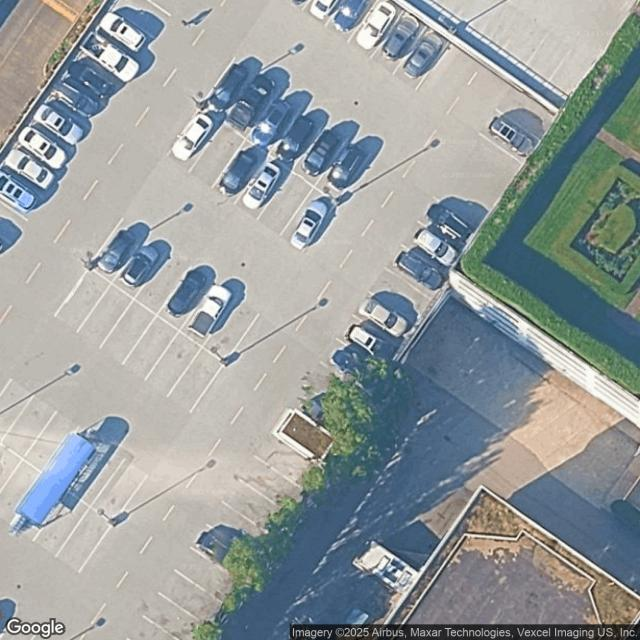car: (222, 68, 283, 134), (1, 143, 61, 196), (271, 108, 321, 168), (375, 13, 427, 70), (349, 0, 401, 56), (399, 28, 448, 87), (202, 59, 252, 115), (483, 111, 537, 161), (84, 35, 140, 82), (286, 197, 332, 254), (302, 122, 347, 180), (95, 8, 150, 55), (66, 57, 119, 105), (239, 158, 284, 214), (248, 96, 295, 148), (359, 295, 411, 342), (342, 319, 393, 364), (215, 147, 259, 199), (16, 126, 69, 169), (328, 144, 372, 194), (94, 228, 136, 277), (191, 285, 231, 336), (53, 79, 106, 117), (172, 113, 213, 161), (34, 105, 87, 142), (396, 251, 446, 290), (327, 0, 378, 38), (326, 343, 372, 385), (168, 270, 209, 316), (122, 245, 160, 287), (0, 169, 36, 211), (196, 529, 234, 567), (309, 0, 334, 18)
lot_boundary: (0, 2, 637, 639)
objects: (11, 430, 97, 533)
